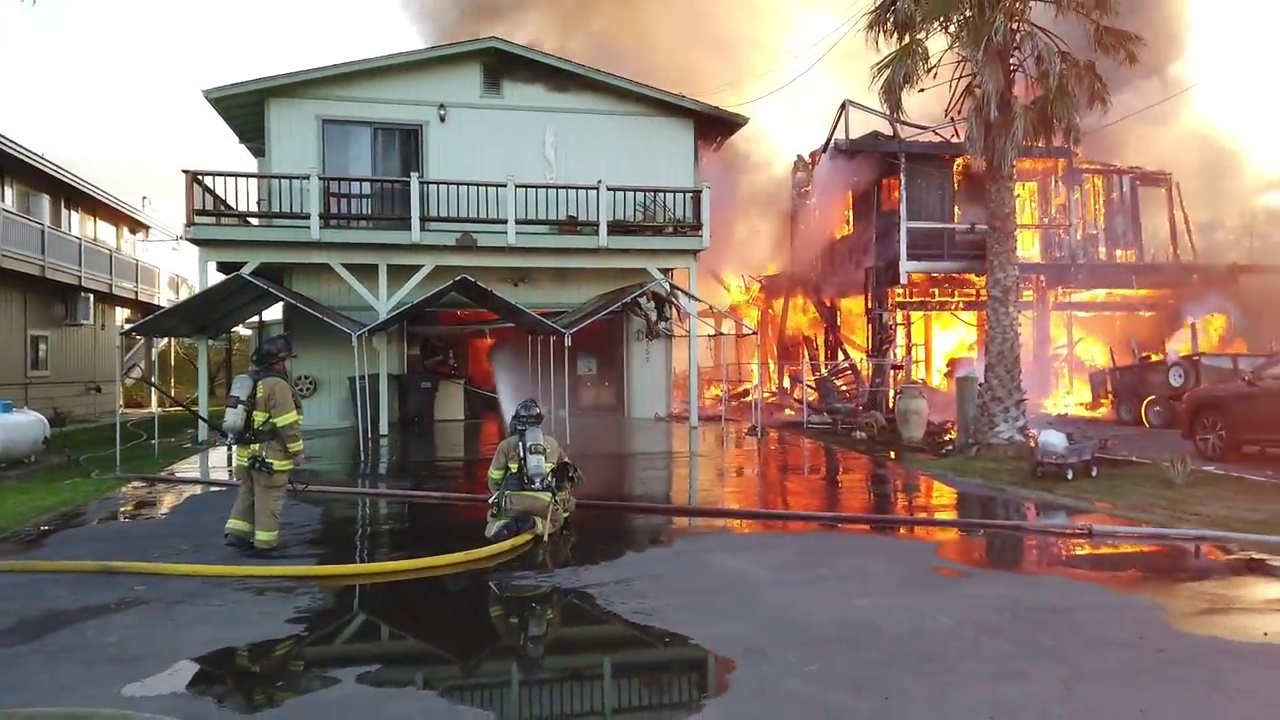fire: (728, 281, 872, 380), (1009, 139, 1116, 256), (888, 275, 984, 385), (1, 334, 50, 479), (1048, 314, 1114, 414), (1161, 306, 1249, 362), (1050, 271, 1171, 308), (700, 377, 793, 406), (1132, 388, 1169, 433), (945, 148, 976, 191), (834, 188, 857, 239), (465, 339, 491, 384), (1109, 241, 1139, 262), (881, 174, 899, 209)
smoke: (412, 1, 866, 129), (1124, 3, 1279, 264), (705, 149, 835, 266), (1033, 1, 1123, 137), (1205, 266, 1280, 306), (1017, 308, 1046, 405), (1116, 312, 1159, 359), (836, 153, 886, 187)
